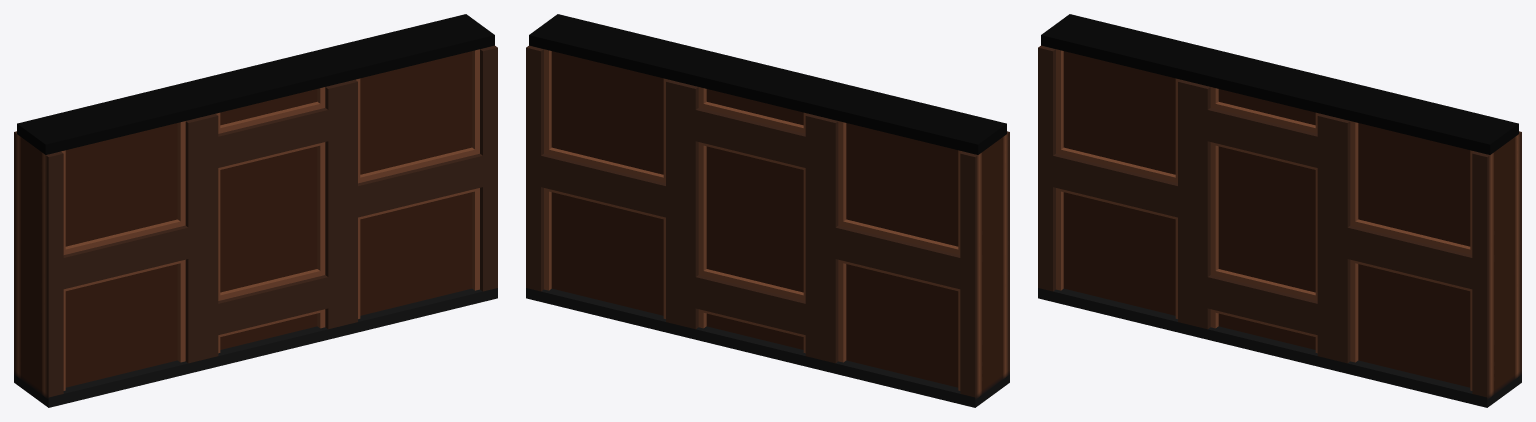
File: Wall-Wood-Model-08.fbx
The picture shows the model from 3 angles, left to right: view 1: azimuth 30°, elevation 25°; view 2: azimuth 150°, elevation 25°; view 3: azimuth 330°, elevation 25°; orthographic projection.
Parts seen in each view (by area): view 1: Wall-Wood-Model-08; view 2: Wall-Wood-Model-08; view 3: Wall-Wood-Model-08.
Boxes of the visible parts, x1,y1,x2,y2 form: Wall-Wood-Model-08: (14,14,497,407); Wall-Wood-Model-08: (526,14,1009,407); Wall-Wood-Model-08: (1038,14,1521,407).
Bounding box in the file's own units: 90 × 50 × 12.
1 material, 1 textured.
